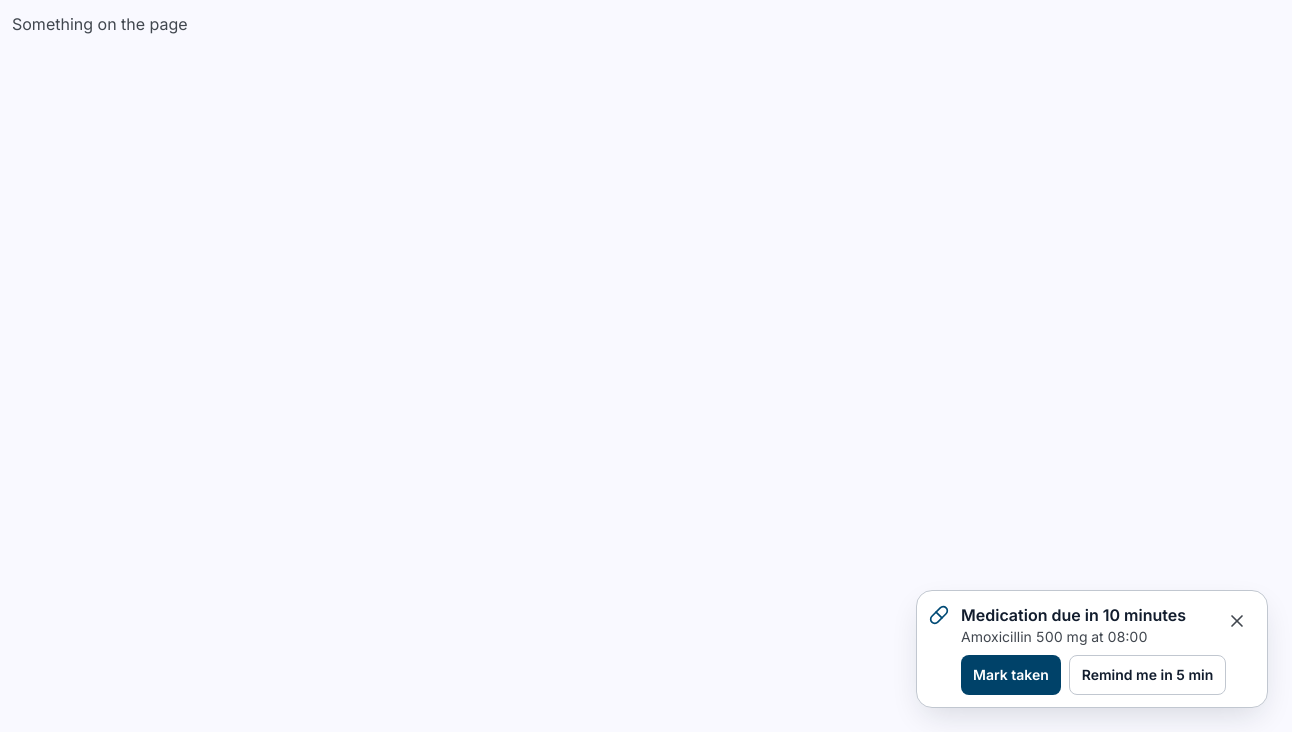
the reminder card › stays dismissed for the session, even when the page is opened again
What coordinates should you click on to do the following:
click the button named "Dismiss reminder: Amoxicillin"
I would click on:
 (1237, 621)
Its box is [1215,599,1259,643].
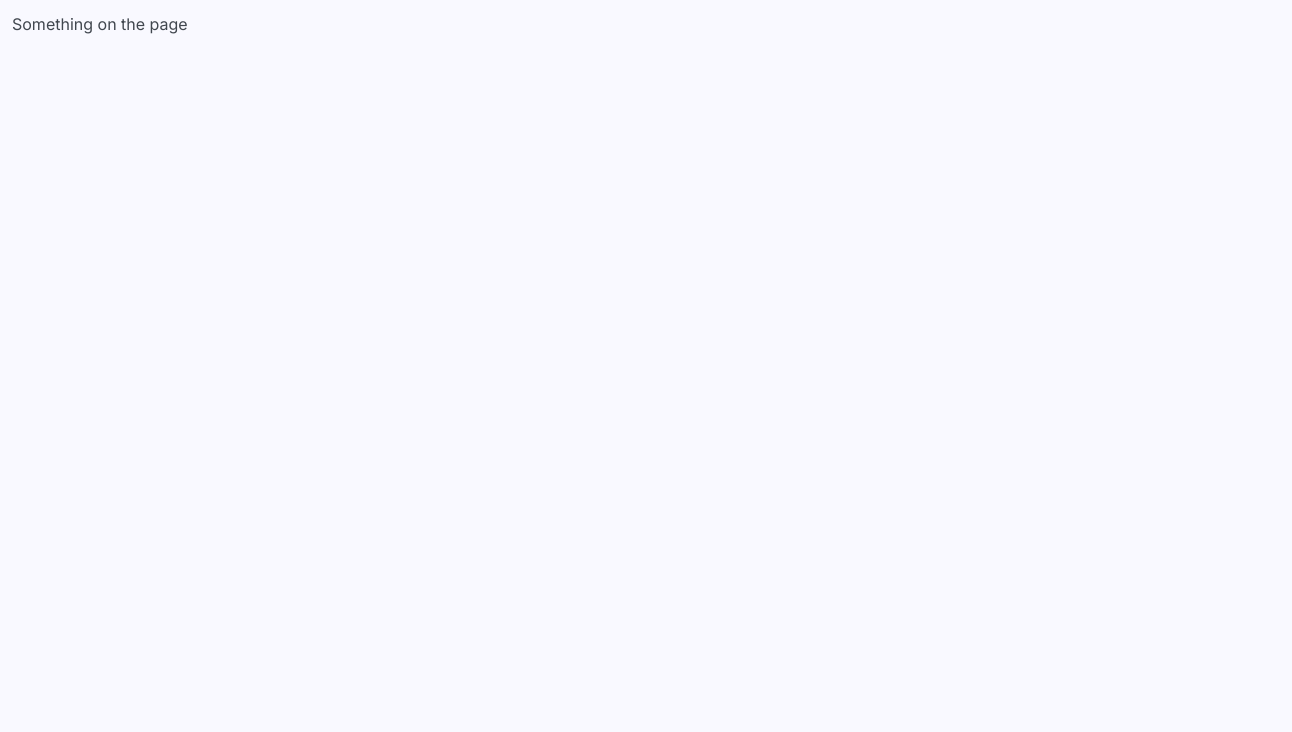
Result: the element "Reminders" is gone
